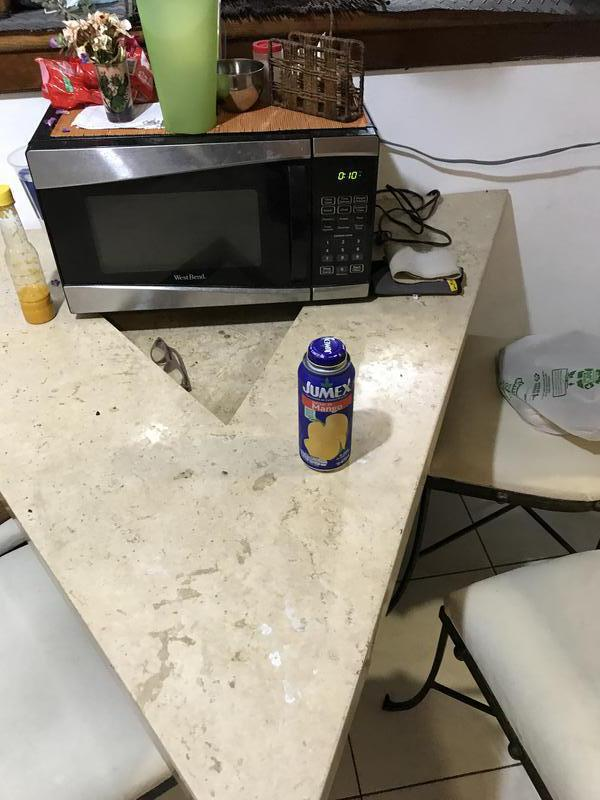jugo_jumex: (295, 338, 357, 474)
